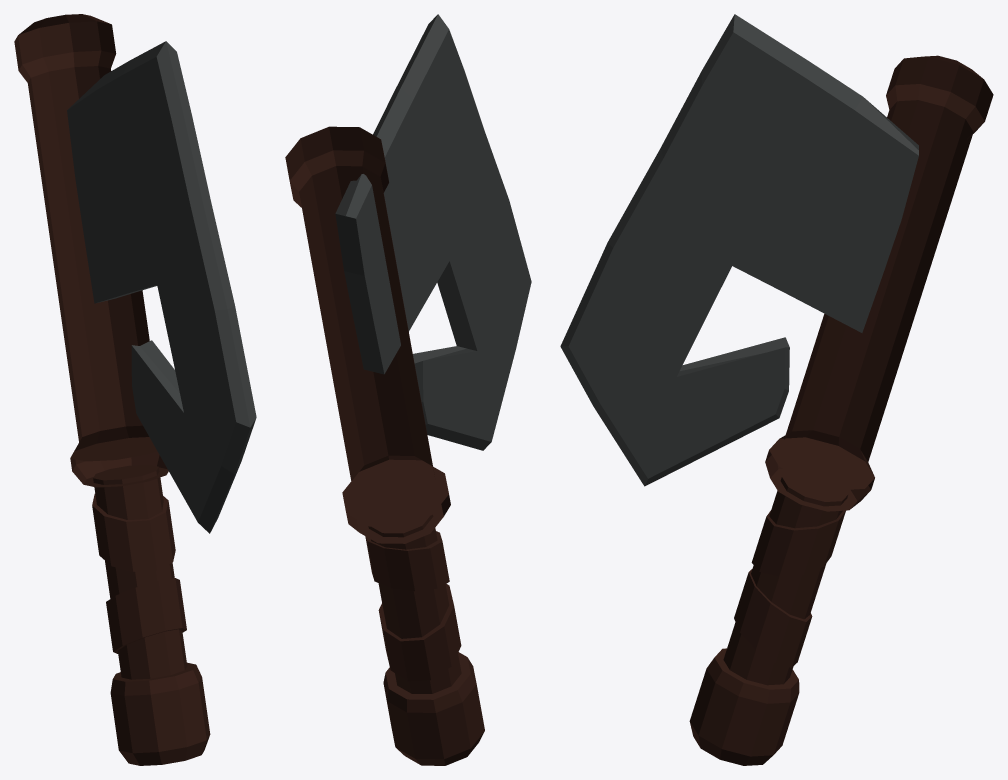
Rendered from axe.fbx.
The picture shows the model from 3 angles, left to right: view 1: azimuth 30°, elevation 25°; view 2: azimuth 150°, elevation 25°; view 3: azimuth 270°, elevation 25°; orthographic projection. The views are drawn at different scales.
Parts seen in each view (by area): view 1: Cylinder, Plane; view 2: Plane, Cylinder; view 3: Plane, Cylinder.
Part boxes in pixels (x1,y1,x2,y2): Cylinder: [14, 14, 210, 765]; Plane: [67, 41, 256, 533]; Plane: [335, 14, 531, 450]; Cylinder: [285, 126, 484, 765]; Plane: [560, 14, 918, 486]; Cylinder: [689, 55, 993, 765].
Size of the model in its own units: 10.6 by 82.71 by 43.69.
